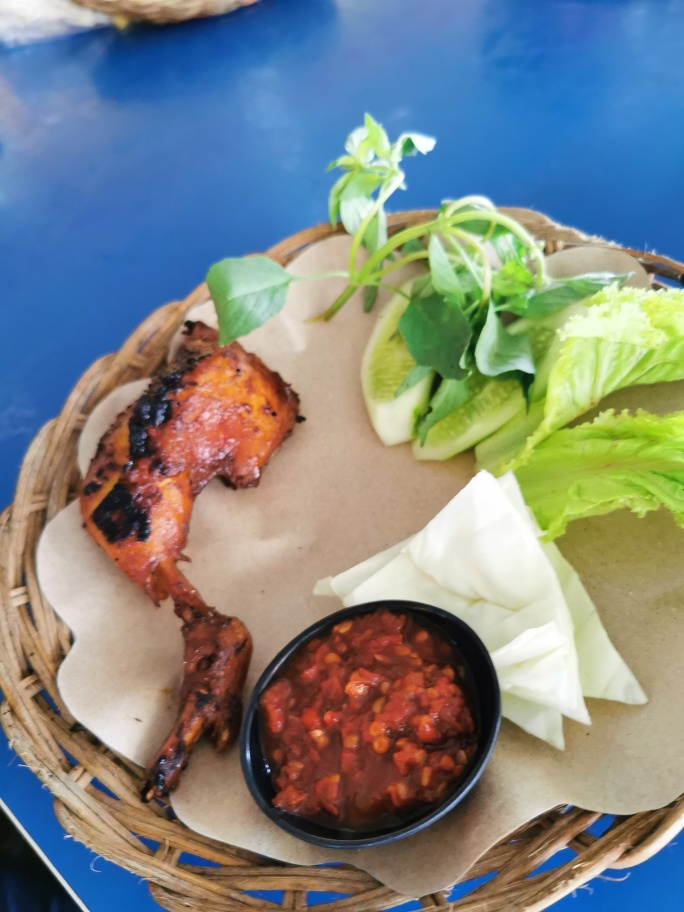ayam bakar: (76, 315, 308, 812)
